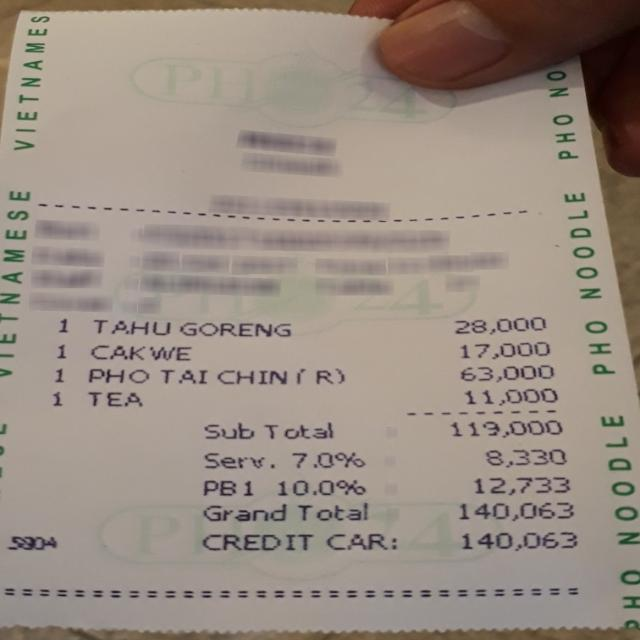text: (460, 530, 574, 551), (458, 501, 571, 521), (449, 419, 560, 438), (179, 320, 290, 337), (200, 533, 310, 550), (473, 475, 570, 494), (464, 387, 557, 405), (452, 316, 544, 334), (88, 344, 189, 360), (459, 341, 548, 359), (458, 364, 551, 381), (485, 448, 565, 467), (202, 503, 284, 521), (277, 479, 363, 495), (202, 451, 275, 469), (297, 502, 368, 520), (325, 532, 394, 550), (92, 319, 168, 335), (263, 422, 334, 438), (292, 452, 363, 467), (217, 369, 285, 384), (88, 368, 148, 382), (202, 479, 252, 495), (86, 392, 140, 406), (203, 422, 252, 437), (7, 535, 56, 549), (159, 369, 206, 383), (299, 365, 325, 386), (327, 365, 349, 386), (48, 390, 62, 407), (54, 343, 68, 359), (52, 366, 64, 384), (58, 316, 66, 331)
